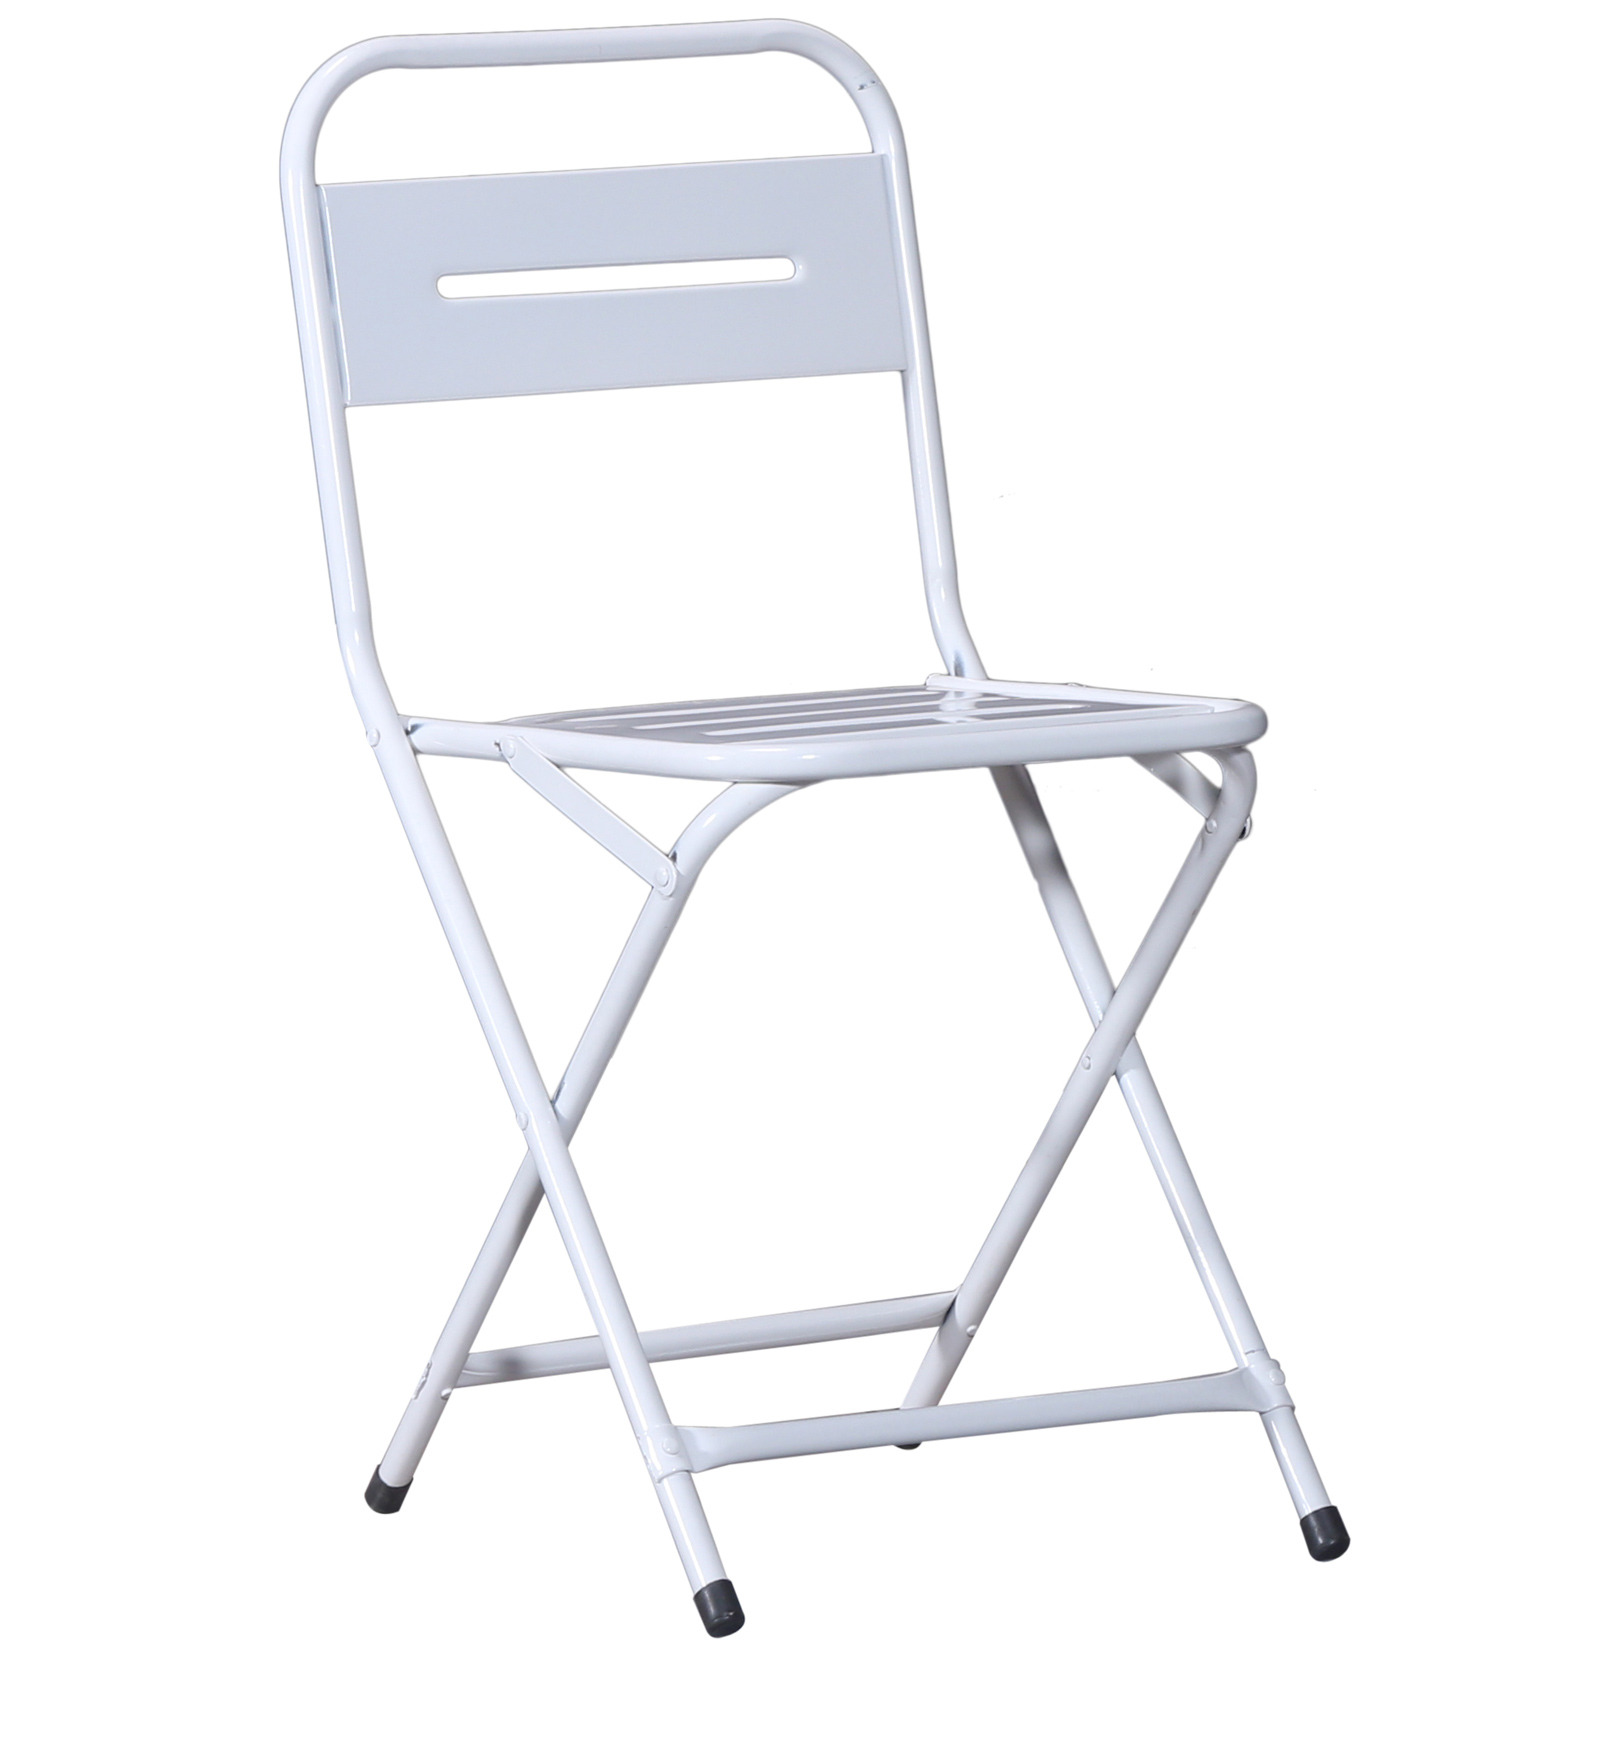Marandoo Grunge White Outdoor Folding Chair by Bohemiana: (265, 17, 1375, 1637)
